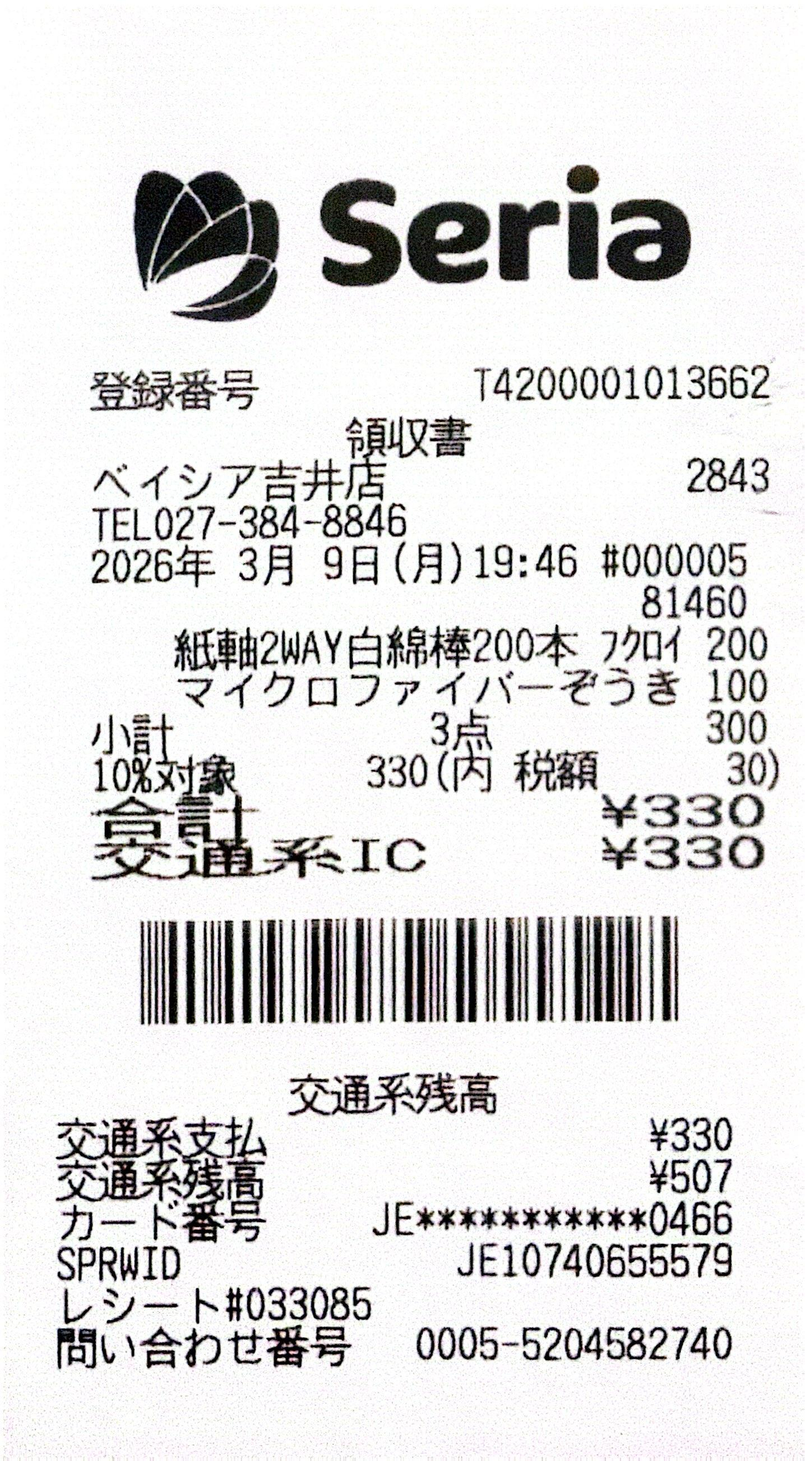Date: (90, 545, 381, 586)
Pay: (92, 794, 765, 838)
Shopname: (319, 163, 692, 287)
Telnum: (153, 502, 409, 542)
